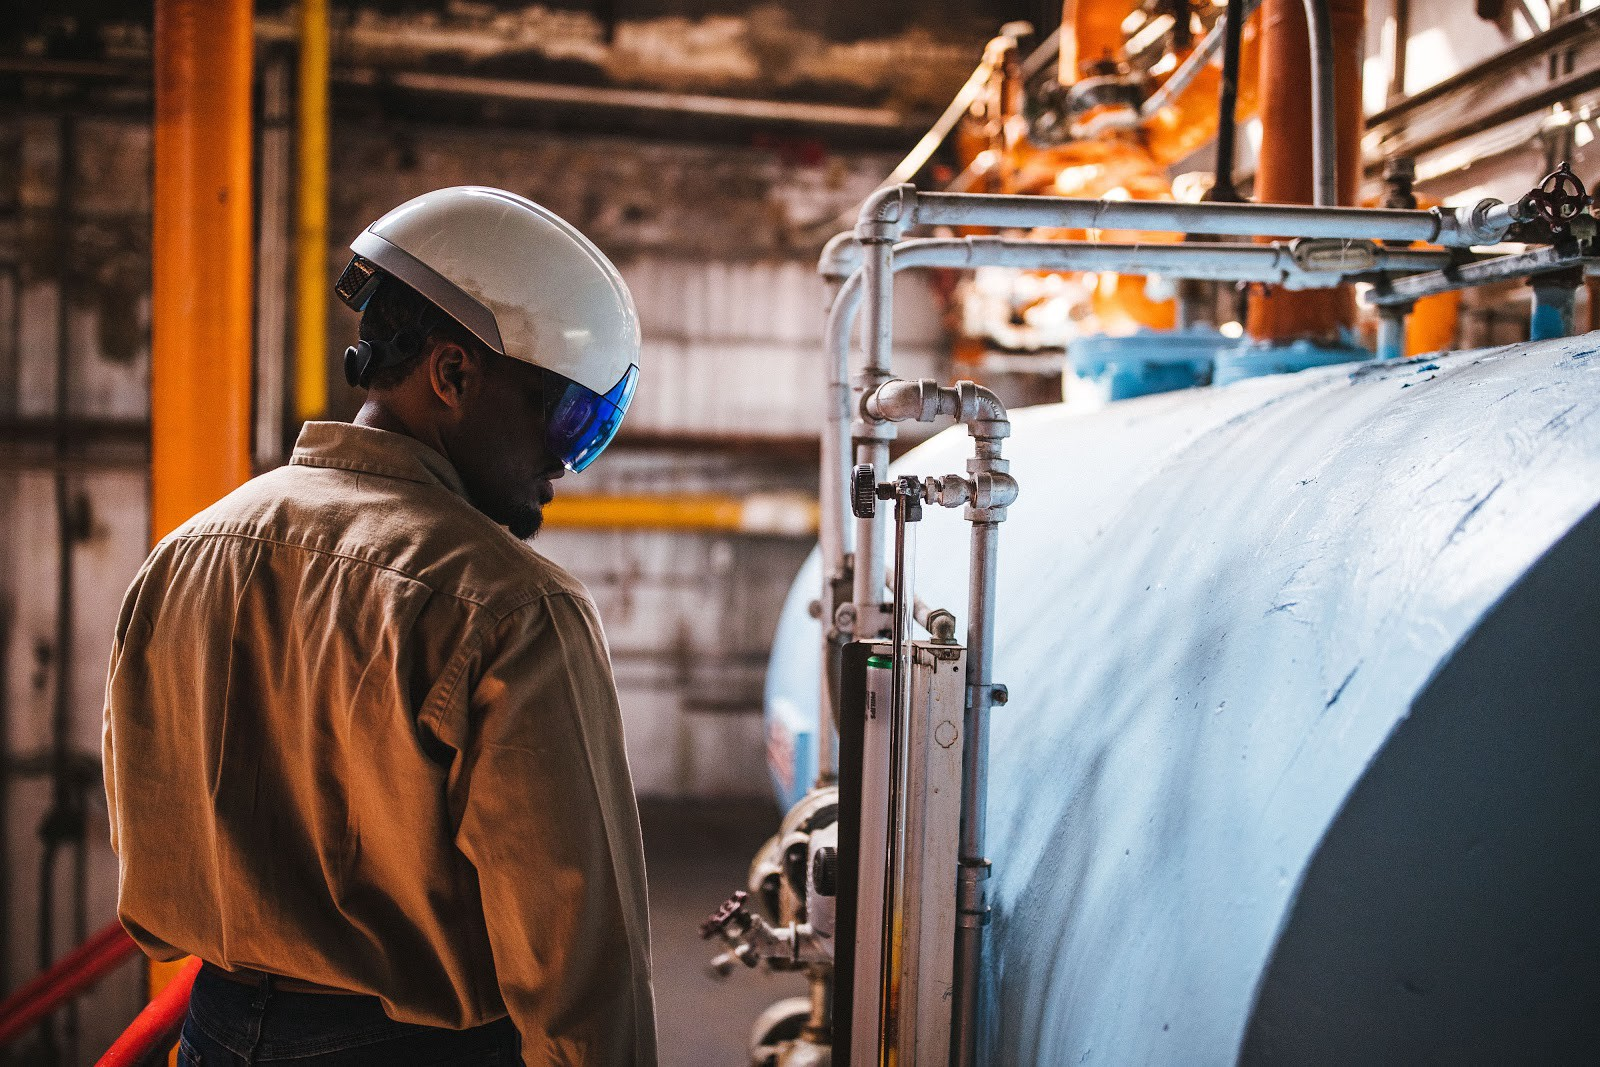Hard Hat: (335, 181, 651, 395)
